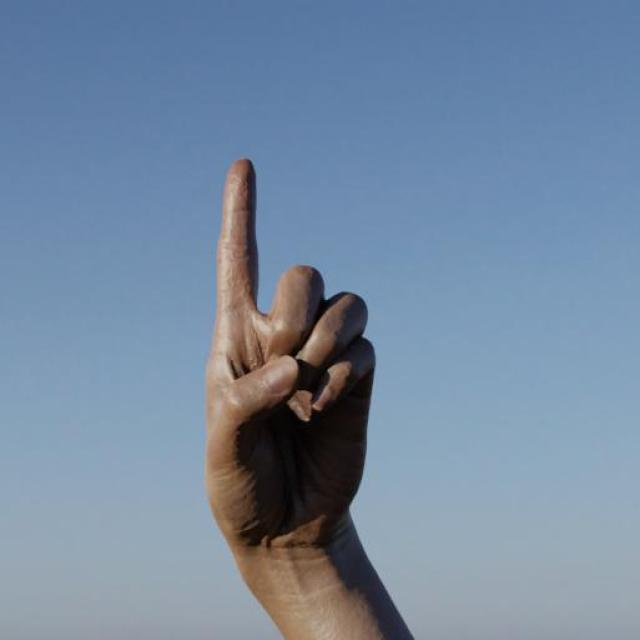D: (204, 151, 379, 549)
